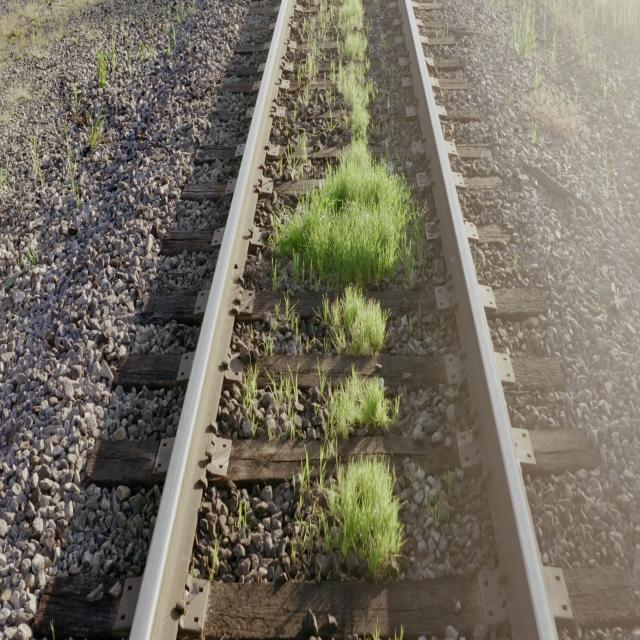Plant: (270, 0, 422, 356), (266, 371, 399, 476), (318, 458, 402, 576), (289, 136, 309, 178), (245, 364, 259, 420), (299, 460, 311, 511)
